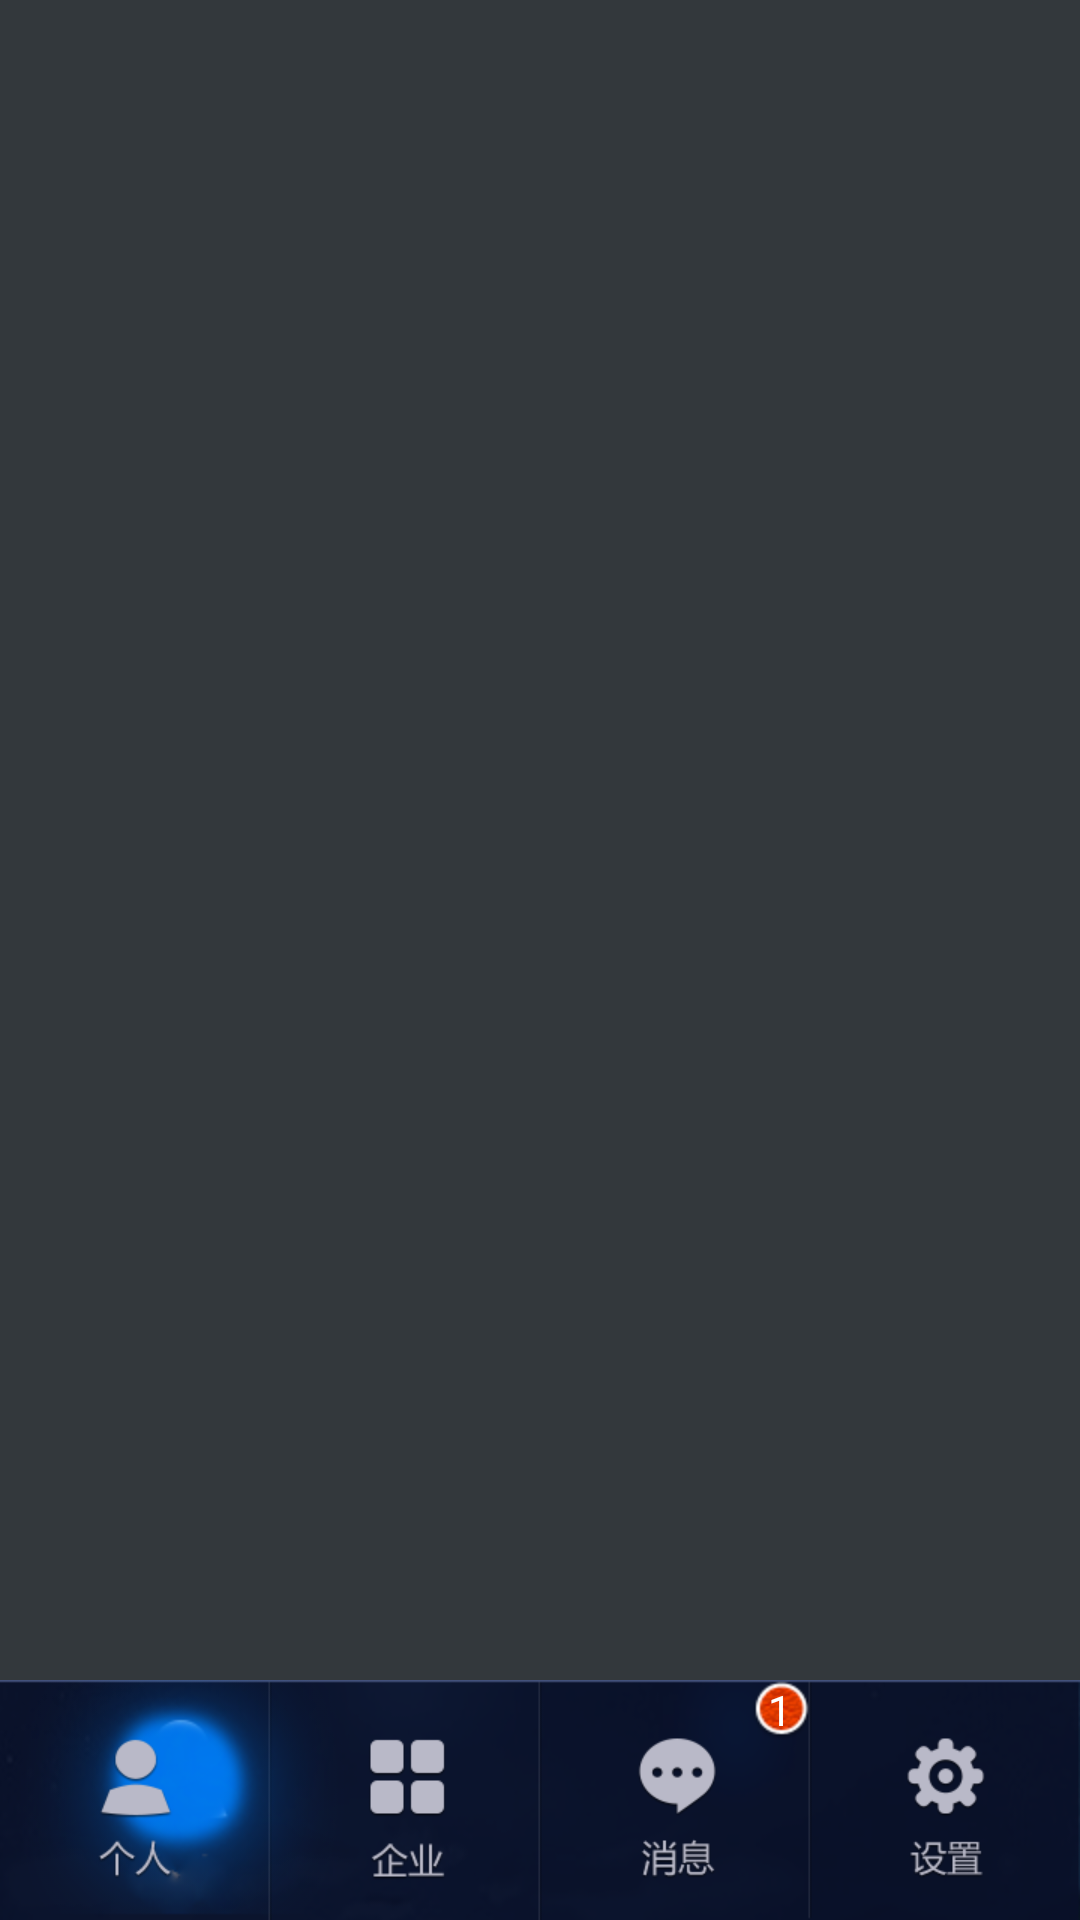

Screen size 1080 x 1920. Icon name, then its center in pixels as (x=x, y=y):
tab: (x=135, y=1800), (x=405, y=1800), (x=945, y=1800), (x=677, y=1807)
